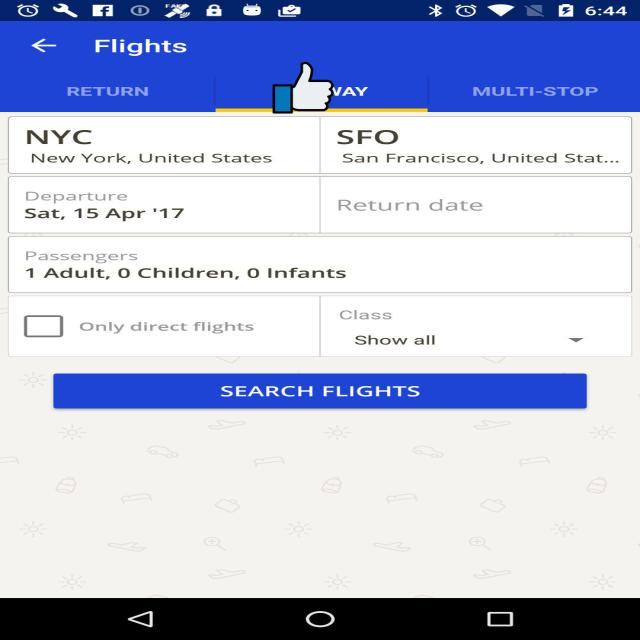privacy zuckering: (272, 60, 334, 114)
